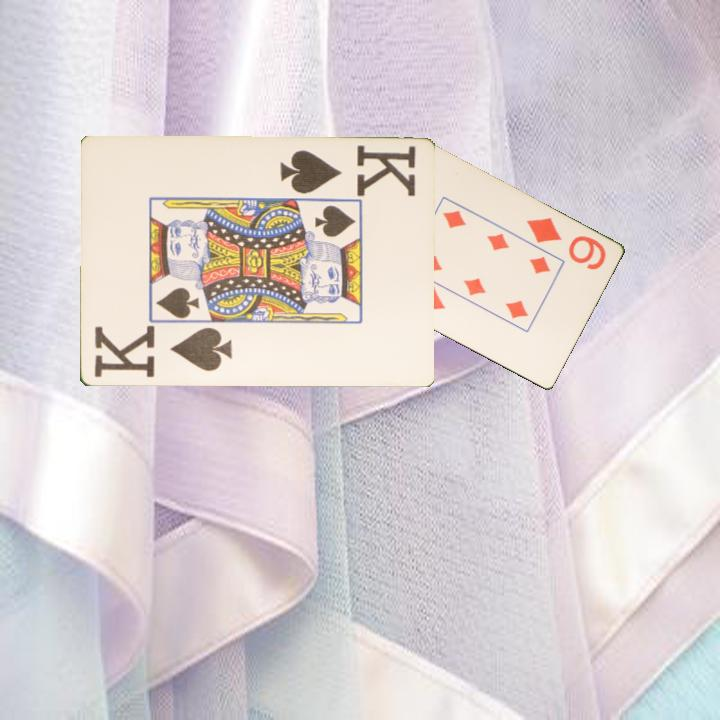6d: (523, 214, 609, 273)
Ks: (90, 324, 235, 381), (276, 142, 418, 198)
